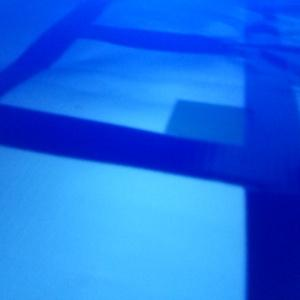top_left: (165, 99, 296, 173)
